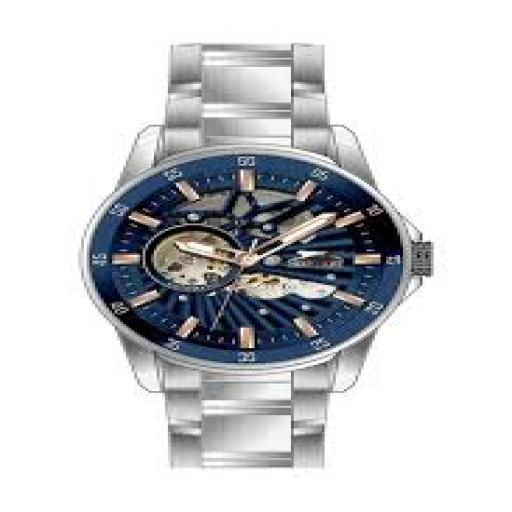KolSaati: (70, 28, 448, 482)
